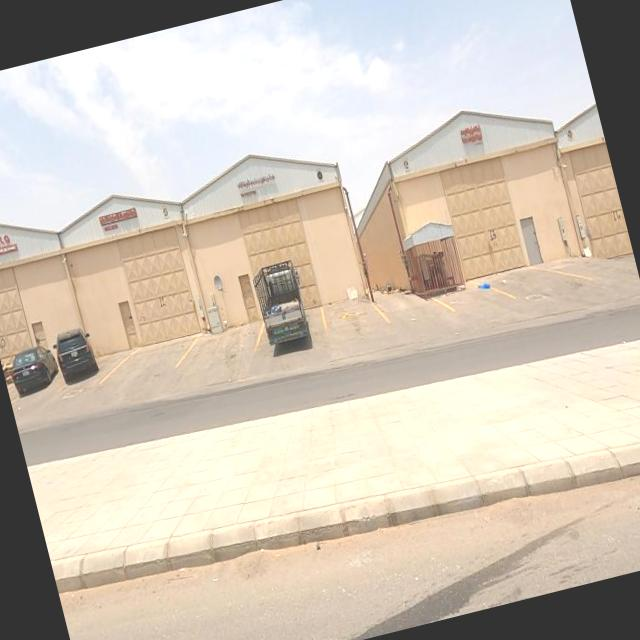debris: (456, 255, 514, 319), (482, 259, 524, 304)
